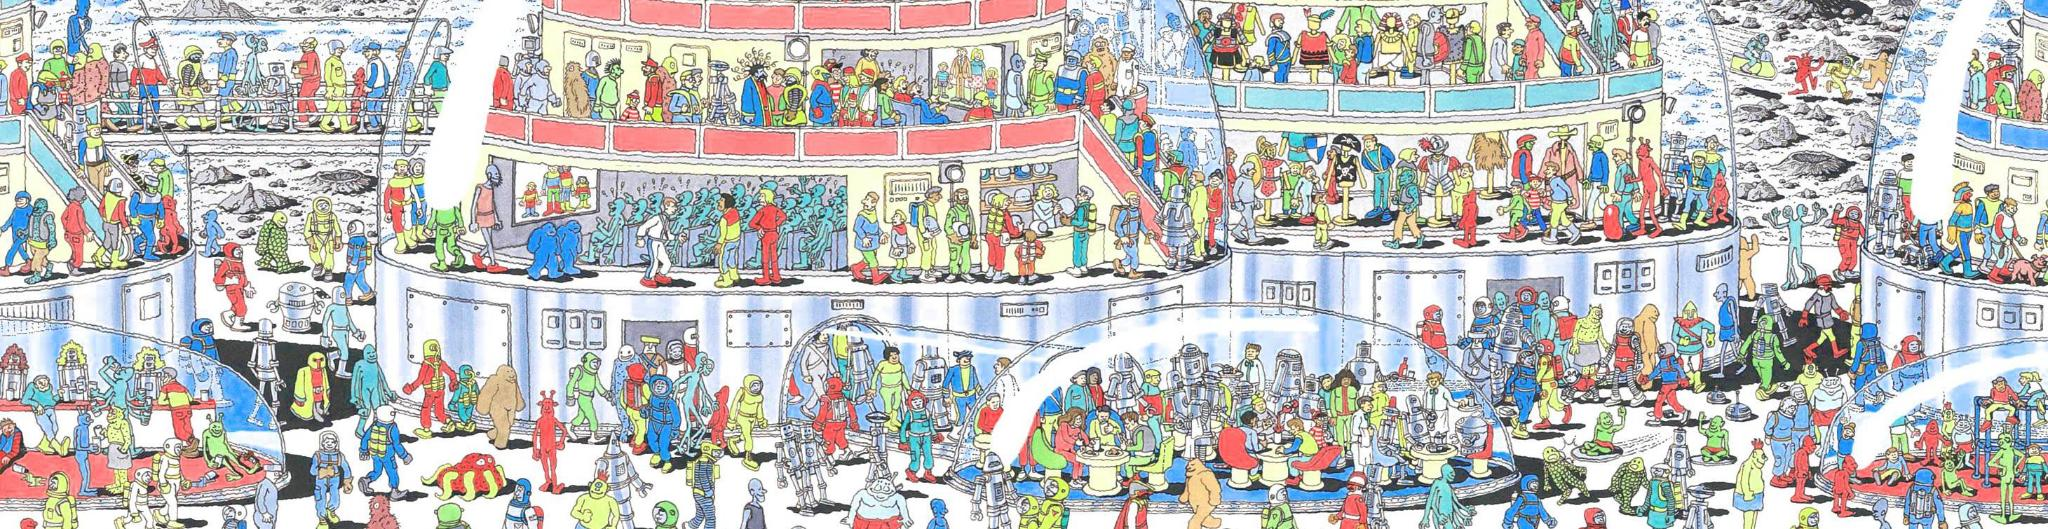waldo: (824, 61, 842, 81)
